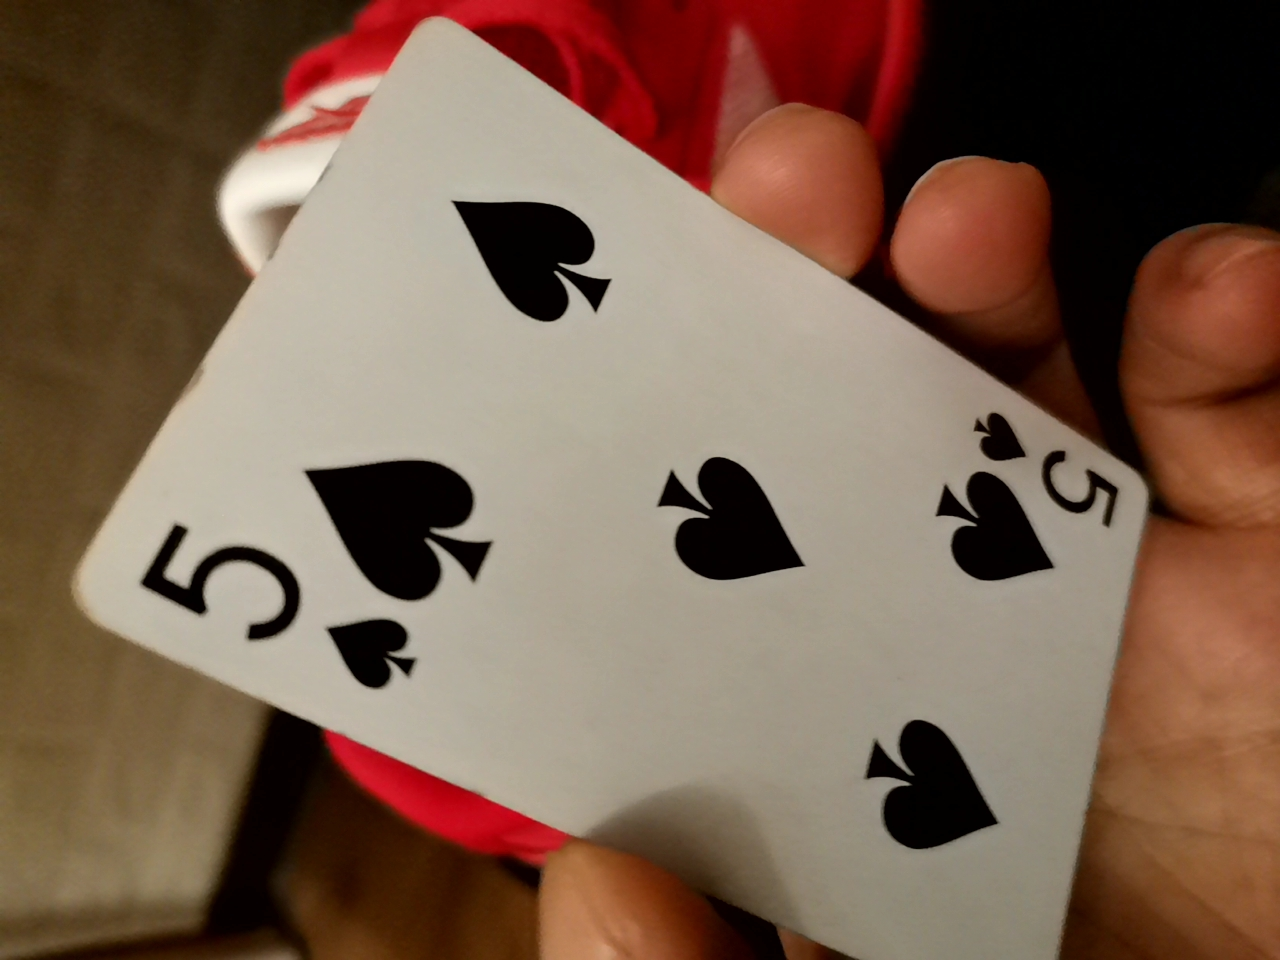ht 5: (73, 42, 1185, 953)
